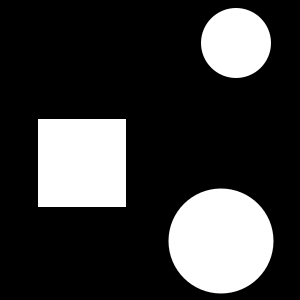circle: (38, 119, 126, 207)
rectangle: (169, 189, 274, 294), (170, 190, 272, 290), (201, 8, 271, 78)
